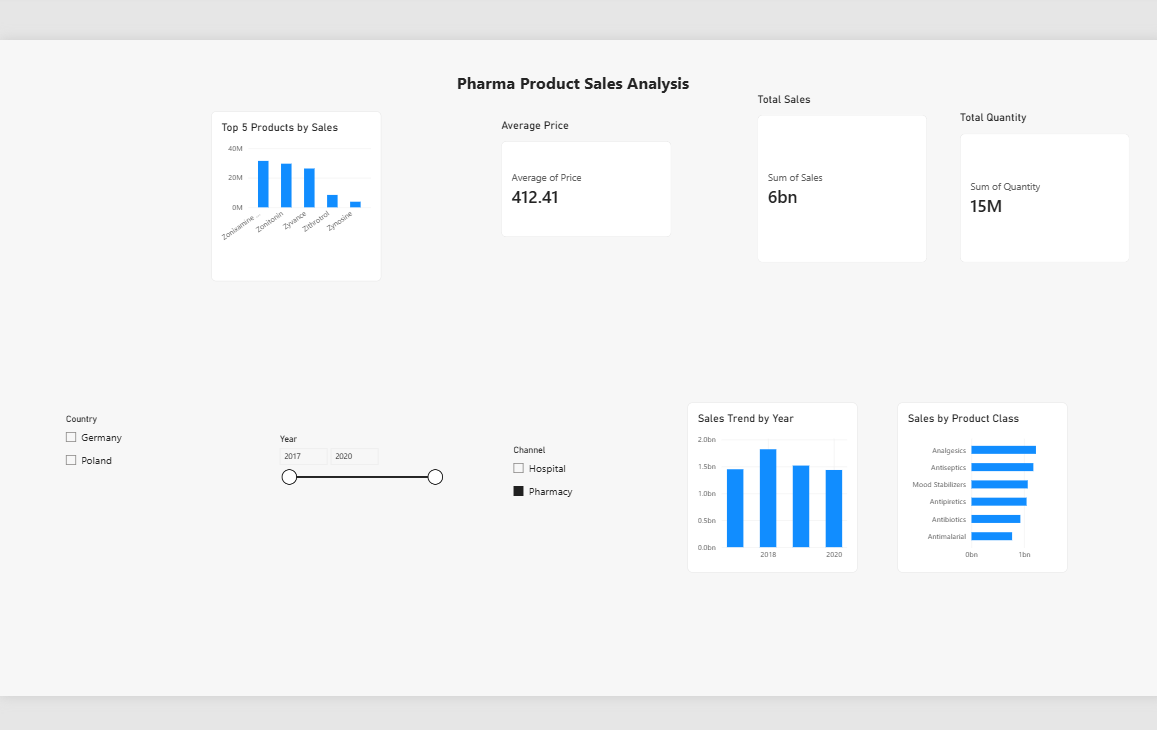

Layout of this report page (visuals, bound fields, positions):
{"tool":"powerbi","page":{"name":"Product Analysis","canvas":[1920,1080],"ordinal":1},"visuals":[{"type":"clusteredColumnChart","title":"Top 5 Products by Sales","fields":{"Category":["pharma_sales_cleaned.Product Name"],"Y":["Sum(pharma_sales_cleaned.Sales)"]},"box":[347.9,117.3,280,280],"z":0},{"type":"clusteredBarChart","title":"Sales by Product Class","fields":{"Category":["pharma_sales_cleaned.Product Class"],"Y":["Sum(pharma_sales_cleaned.Sales)"]},"box":[1477.9,596.9,280,280],"z":1},{"type":"clusteredColumnChart","title":"Sales Trend by Year","fields":{"Category":["pharma_sales_cleaned.Year"],"Y":["Sum(pharma_sales_cleaned.Sales)"]},"box":[1132.1,596.9,280,280],"z":2},{"type":"cardVisual","title":"Total Sales","fields":{"Data":["Sum(pharma_sales_cleaned.Sales)"]},"box":[1247.3,86.4,279.9,279.9],"z":3},{"type":"cardVisual","title":"Total Quantity","fields":{"Data":["Sum(pharma_sales_cleaned.Quantity)"]},"box":[1580.8,117.3,279.9,249.1],"z":4},{"type":"slicer","fields":{"Values":["pharma_sales_cleaned.Country"]},"box":[100.9,615.4,279.9,209.9],"z":5},{"type":"slicer","fields":{"Values":["pharma_sales_cleaned.Year"]},"box":[452.8,648.4,279.9,187.3],"z":6},{"type":"slicer","fields":{"Values":["pharma_sales_cleaned.Channel"]},"box":[837.7,666.9,280,210],"z":7},{"type":"textbox","box":[710.1,51.5,522.8,65.9],"z":8},{"type":"cardVisual","title":"Average Price","fields":{"Data":["Avg(pharma_sales_cleaned.Price)"]},"box":[825.4,129.7,280,195],"z":9}]}

Visuals, with their boxes on the page's 1920x1080 design canvas (x1, y1, x2, y2). These are canvas units, not pixel positions in the 1157x730 screenshot, which may show the page scaled, cropped or inside an application window:
"Top 5 Products by Sales" clusteredColumnChart: bbox(348, 117, 628, 397)
"Sales by Product Class" clusteredBarChart: bbox(1478, 597, 1758, 877)
"Sales Trend by Year" clusteredColumnChart: bbox(1132, 597, 1412, 877)
"Total Sales" cardVisual: bbox(1247, 86, 1527, 366)
"Total Quantity" cardVisual: bbox(1581, 117, 1861, 366)
slicer - pharma_sales_cleaned.Country: bbox(101, 615, 381, 825)
slicer - pharma_sales_cleaned.Year: bbox(453, 648, 733, 836)
slicer - pharma_sales_cleaned.Channel: bbox(838, 667, 1118, 877)
textbox: bbox(710, 52, 1233, 117)
"Average Price" cardVisual: bbox(825, 130, 1105, 325)
